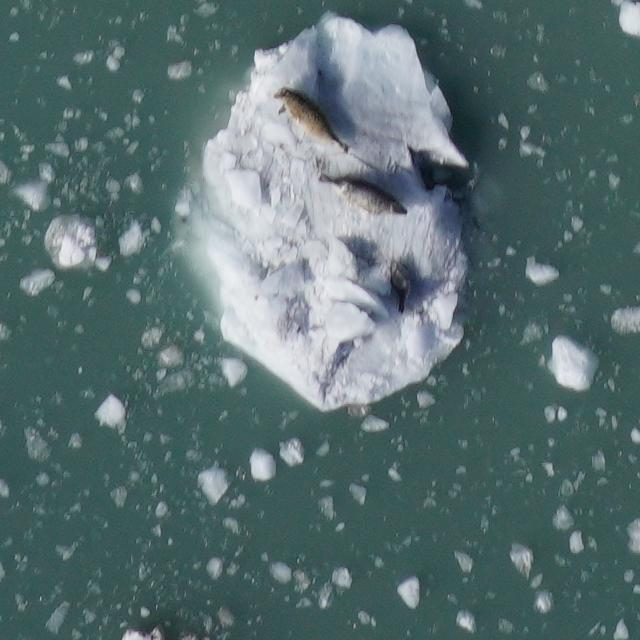seal: (270, 85, 354, 158), (316, 171, 411, 220), (385, 254, 413, 316)
